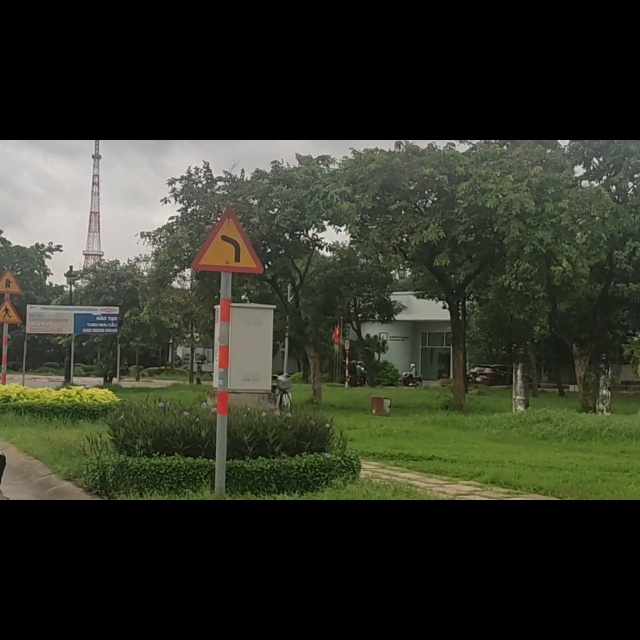bien_nguy_hiem: (192, 116, 265, 238), (1, 224, 23, 277), (1, 279, 23, 329)
